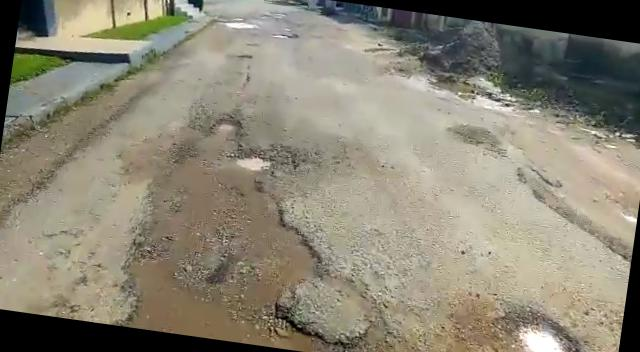pothole: (492, 302, 595, 352), (232, 142, 288, 179), (210, 112, 247, 138)
